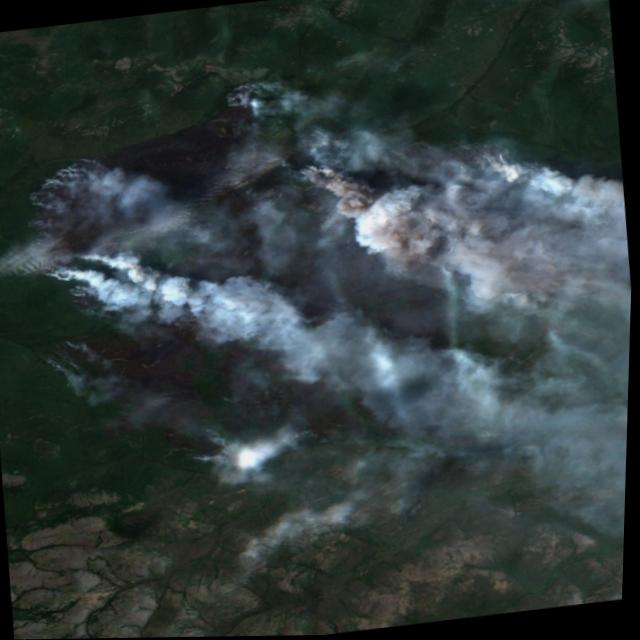fire: (3, 39, 560, 524)
